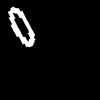chain: (8, 7, 34, 46)
